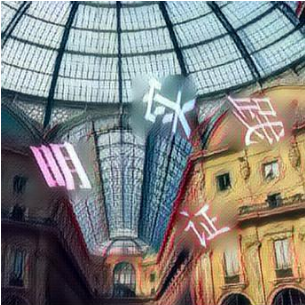hanzi: (27, 130, 102, 199), (223, 88, 295, 152), (133, 74, 201, 136), (169, 196, 244, 249)
